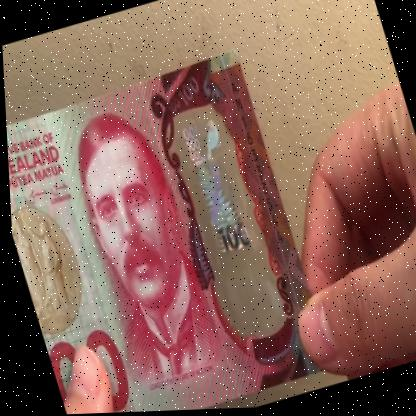100F: (173, 108, 274, 325)
